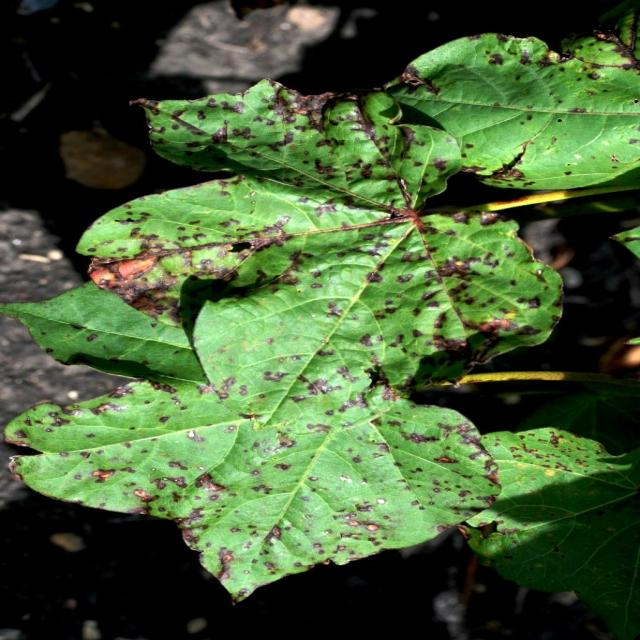Bacterial Blight: (176, 106, 536, 338), (128, 398, 438, 528)
